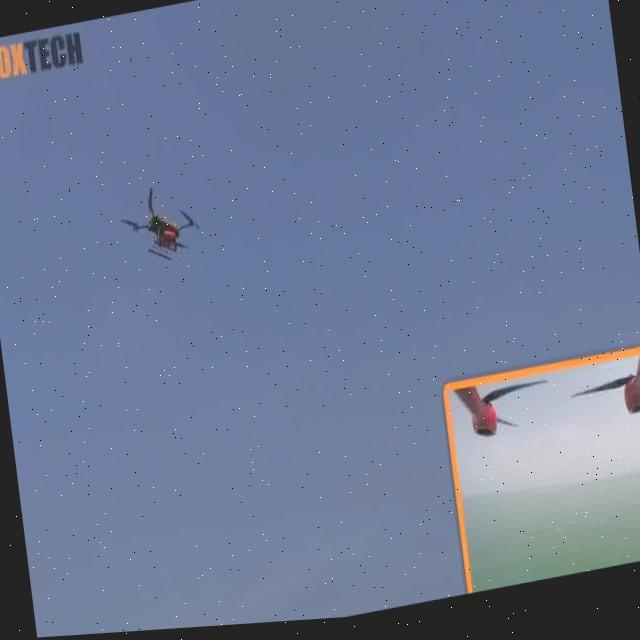drone: (113, 169, 215, 282)
